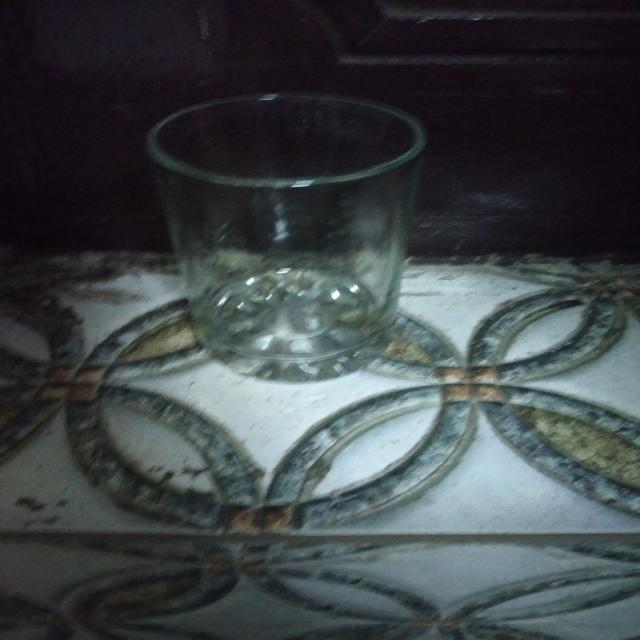Glass: (142, 88, 431, 384)
